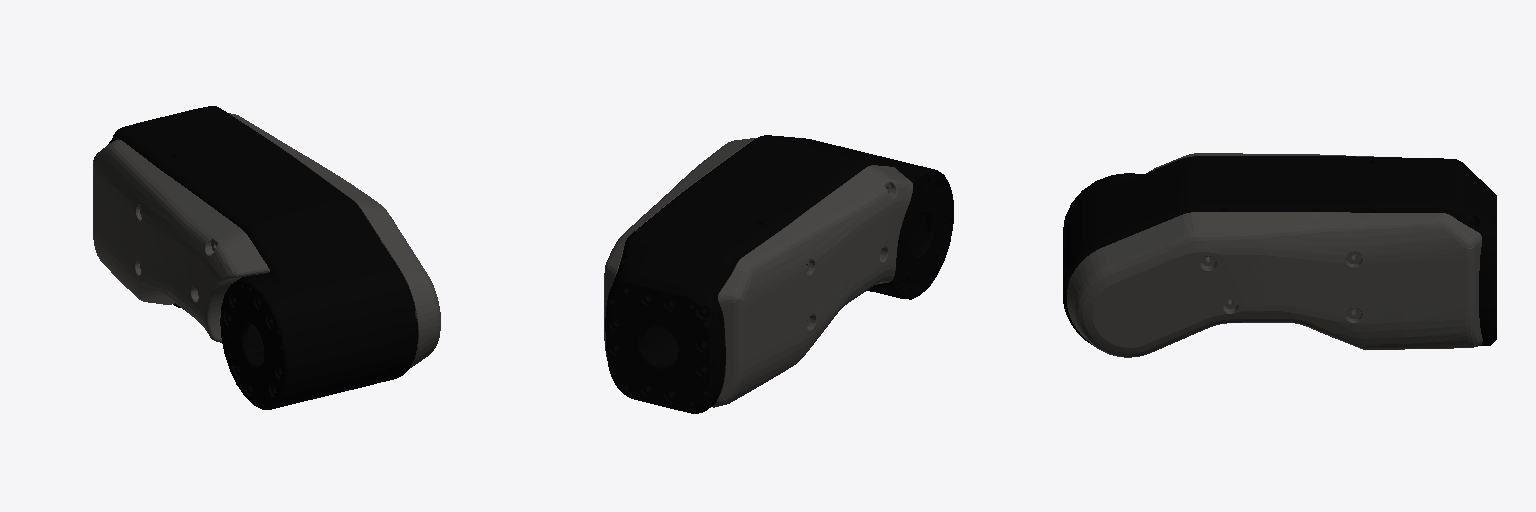
The model's file is upperArm_right.obj.
The picture shows the model from 3 angles: view 1: azimuth 30°, elevation 25°; view 2: azimuth 150°, elevation 25°; view 3: azimuth 270°, elevation 25°; orthographic projection.
Visible parts, largest first — view 1: bicep_left.001, bicep_left_float.001; view 2: bicep_left.001, bicep_left_float.001; view 3: bicep_left_float.001, bicep_left.001.
Boxes of the visible parts, x1,y1,x2,y2 form: bicep_left.001: [108, 106, 417, 409]; bicep_left_float.001: [93, 113, 440, 368]; bicep_left.001: [605, 135, 953, 413]; bicep_left_float.001: [604, 138, 912, 407]; bicep_left_float.001: [1067, 153, 1482, 357]; bicep_left.001: [1063, 156, 1496, 345].
Size of the model in its own units: 0.1185 by 0.0961 by 0.2505.